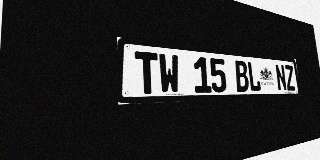1: (193, 56, 212, 93)
5: (209, 58, 227, 92)
B: (234, 60, 250, 92)
L: (247, 61, 261, 92)
N: (275, 64, 287, 91)
T: (135, 51, 159, 94)
W: (158, 53, 180, 94)
Z: (284, 65, 296, 91)
